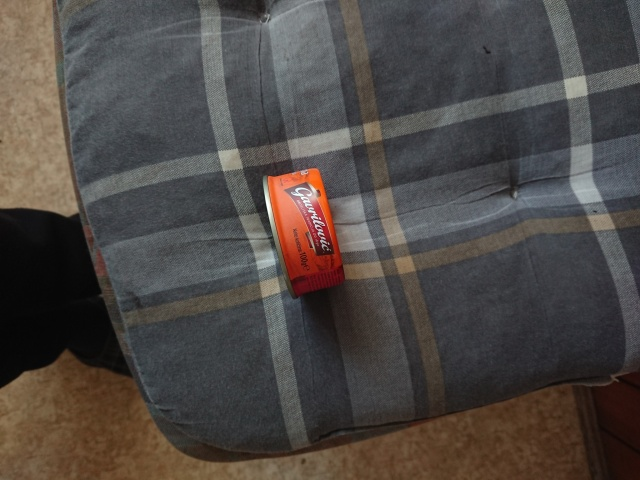Gavrilovic Pork Liver Pate 100g: (260, 166, 349, 302)
